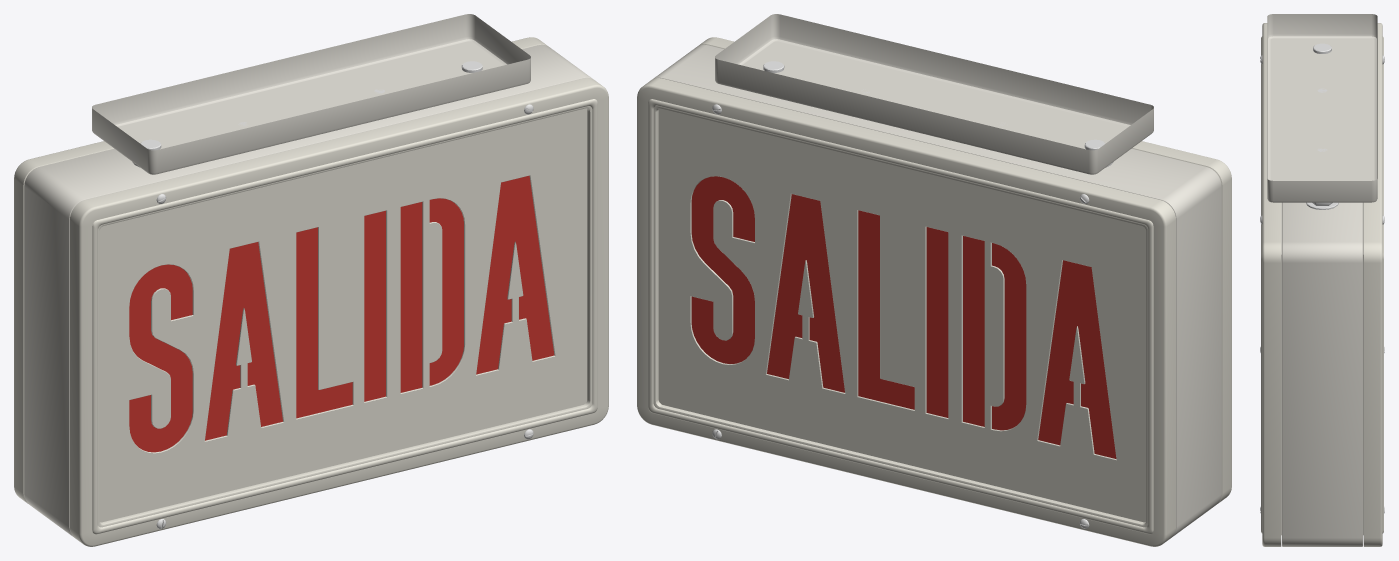
File: Kit_ExitSign_HangingFlush.fbx
3 renders of one model, left to right at view 1: azimuth 30°, elevation 25°; view 2: azimuth 150°, elevation 25°; view 3: azimuth 270°, elevation 25°, orthographic. The views are drawn at different scales.
Visible parts, largest first — view 1: Kit_ExitSign_HangingFlush_LOD0; view 2: Kit_ExitSign_HangingFlush_LOD0; view 3: Kit_ExitSign_HangingFlush_LOD0.
Part boxes in pixels (box(x1,y1,x2,y2)): Kit_ExitSign_HangingFlush_LOD0: box(14, 14, 608, 546); Kit_ExitSign_HangingFlush_LOD0: box(637, 14, 1231, 546); Kit_ExitSign_HangingFlush_LOD0: box(1260, 14, 1384, 546).
Size of what is drawn, in the model's own units: 0.346 by 0.237 by 0.0789.
